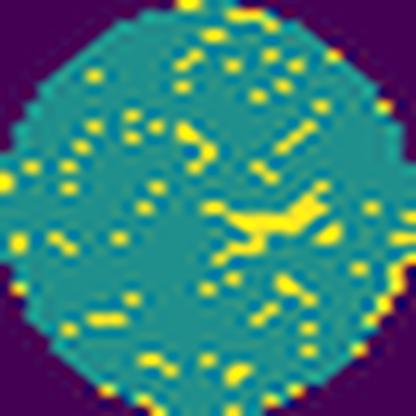Loc: (195, 178, 335, 270), (170, 119, 219, 172)
